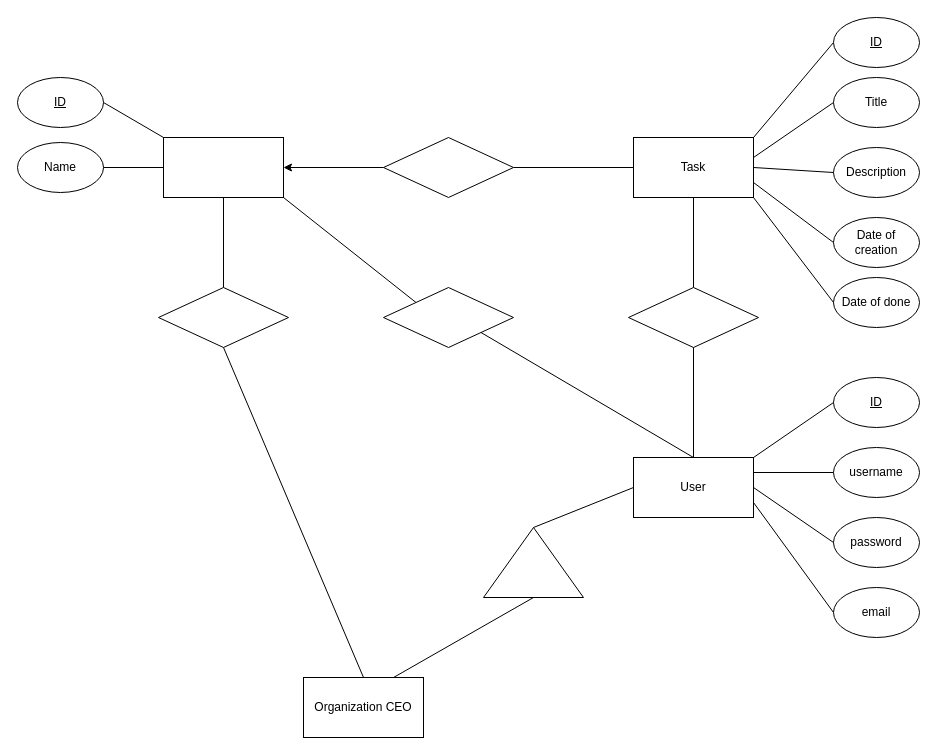
Some shapes in this 937 by 755 pixel diagram are drawn without their labels. Here are the shapes that lost their labels. From the top down, the box of each, then its label:
(162, 136, 284, 198): Organization
(382, 136, 514, 198): OrganizationTasks
(158, 286, 288, 348): organizations
(382, 286, 514, 348): works_for
(628, 286, 758, 348): having
(482, 526, 584, 598): ISA
